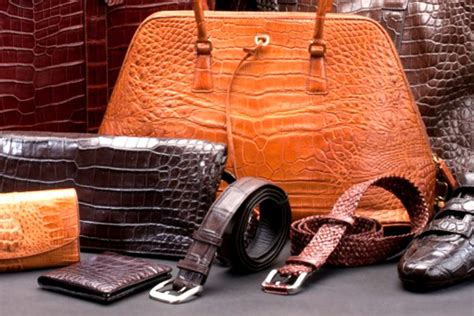cuero: (2, 1, 474, 304)
